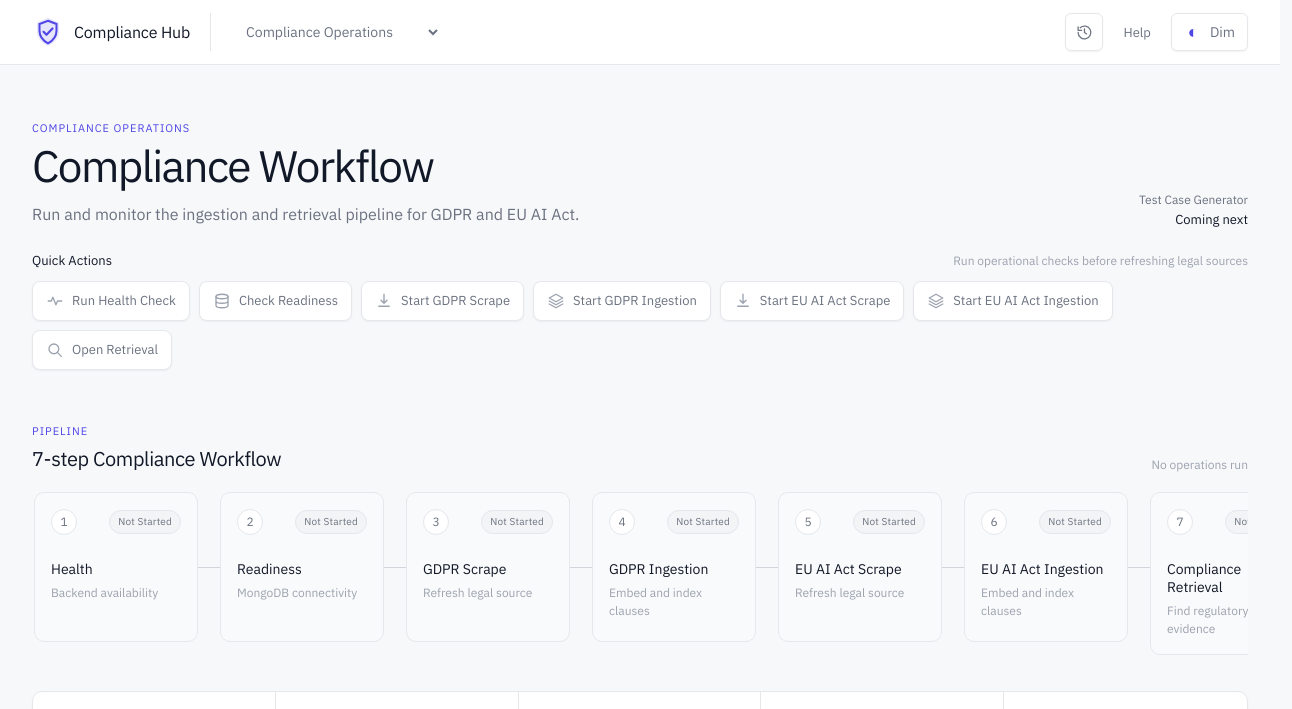
Test case: compliance retrieval UI › shows vector-search results with a non-blocking reranking fallback warning
The image size is (1292, 709).
Click the button "Open Retrieval".
click(102, 350)  # box [32,330,172,370]
(page scrolled)
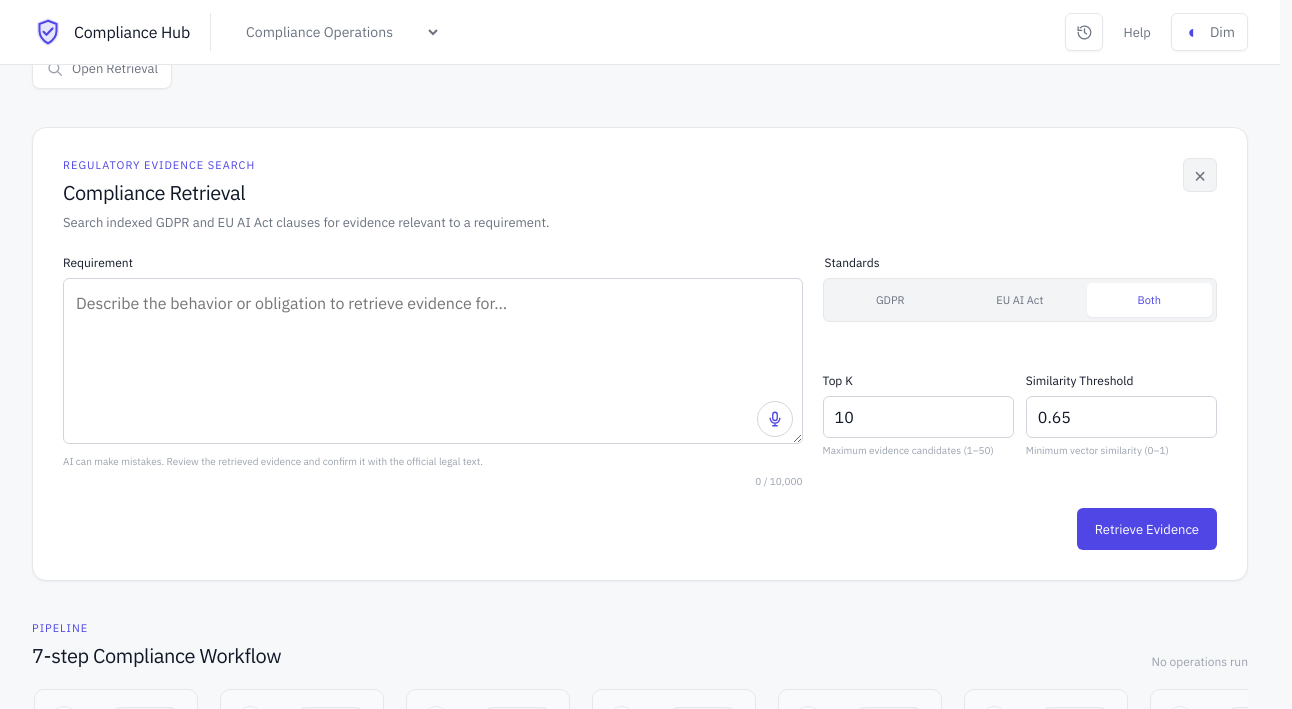
Replace the text in the text box labelled "Requirement" with "Training data governance is required." at (433,361), box [63,278,803,444]
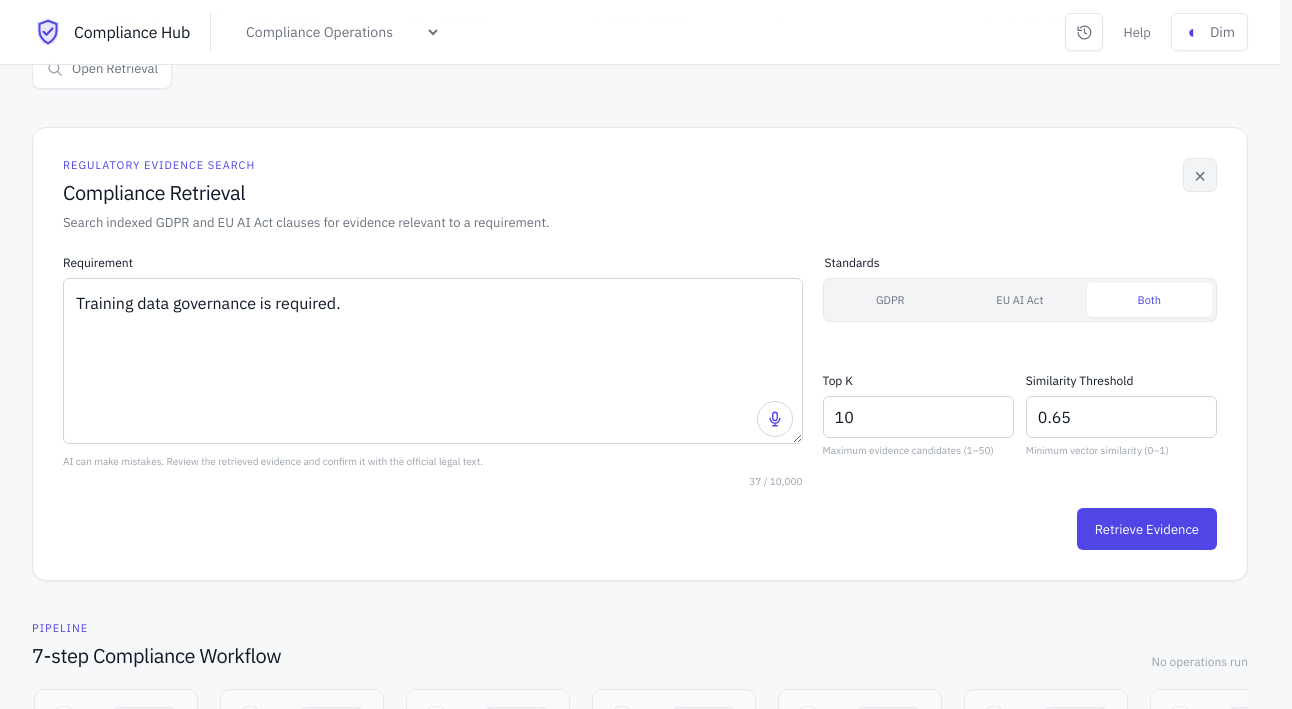
Click the button "Retrieve Evidence".
click(1147, 530)  # box [1077,508,1217,550]
(page scrolled)
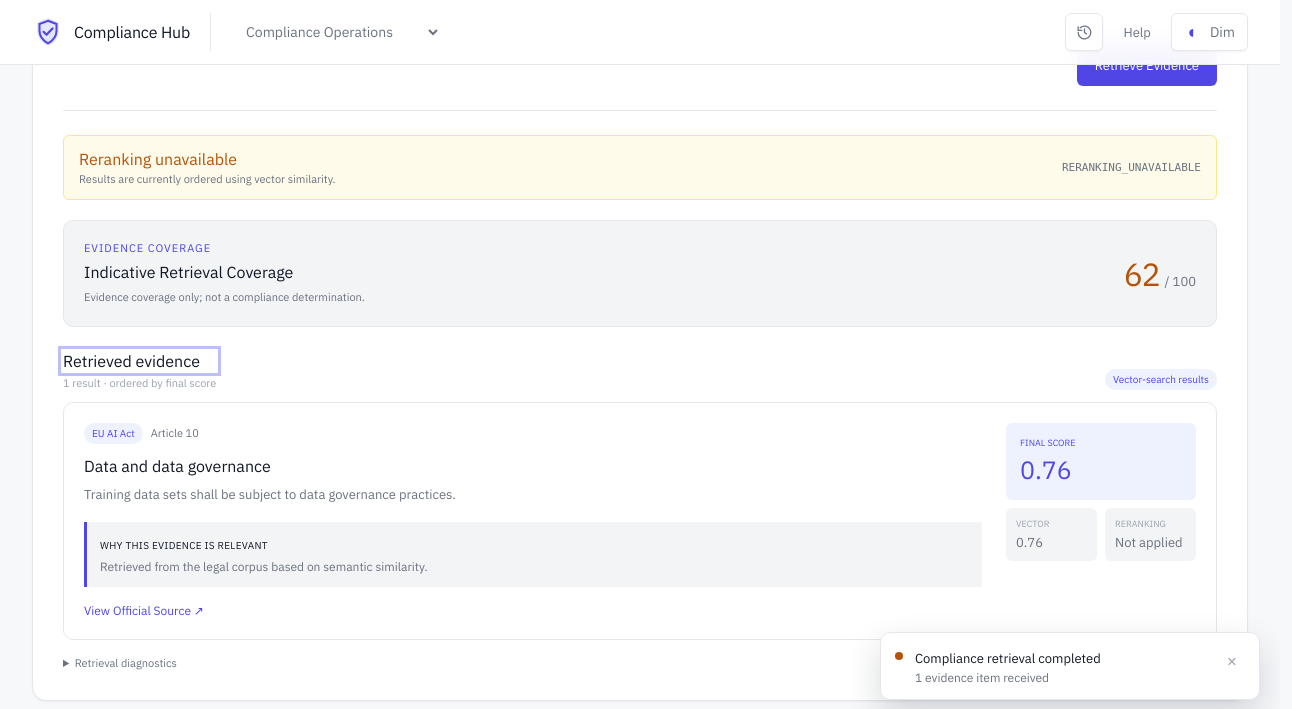
Now the text "Reranking unavailable" is shown, box [79,150,237,170]
Now the text "Results are currently ordered using vector similarity." is shown, box [79,172,336,186]
Now the text "RERANKING_UNAVAILABLE" is shown, box [1062,162,1201,174]
